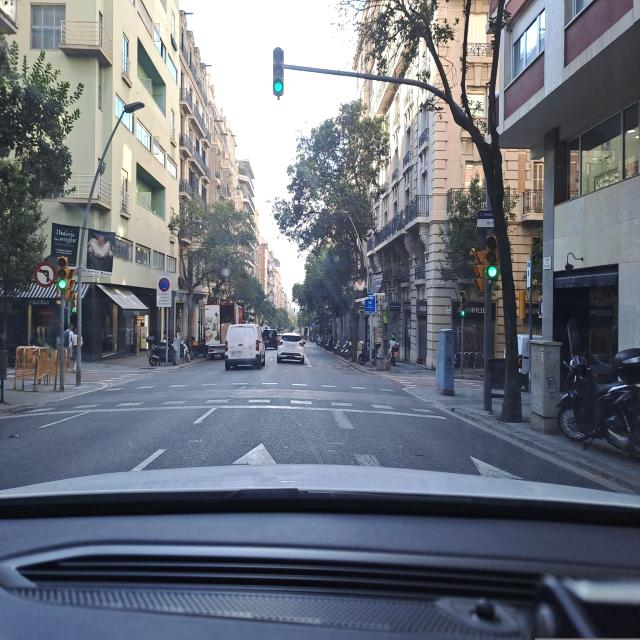bike: (556, 358, 640, 462), (148, 337, 180, 366)
car: (224, 323, 266, 370), (276, 333, 306, 364), (261, 329, 278, 350)
